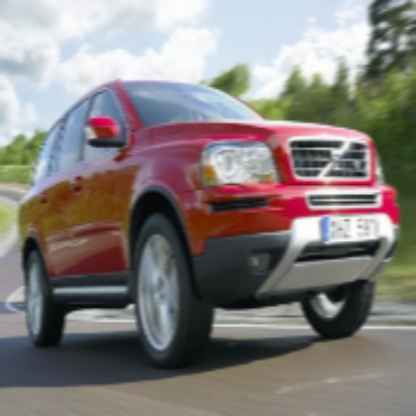Vehicle: (20, 82, 400, 370)
